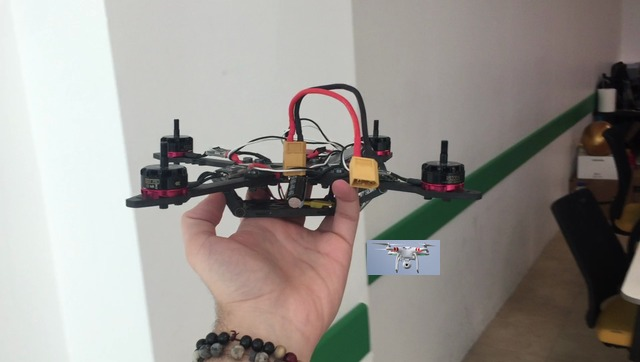drone: (125, 83, 482, 215), (367, 240, 440, 275)
